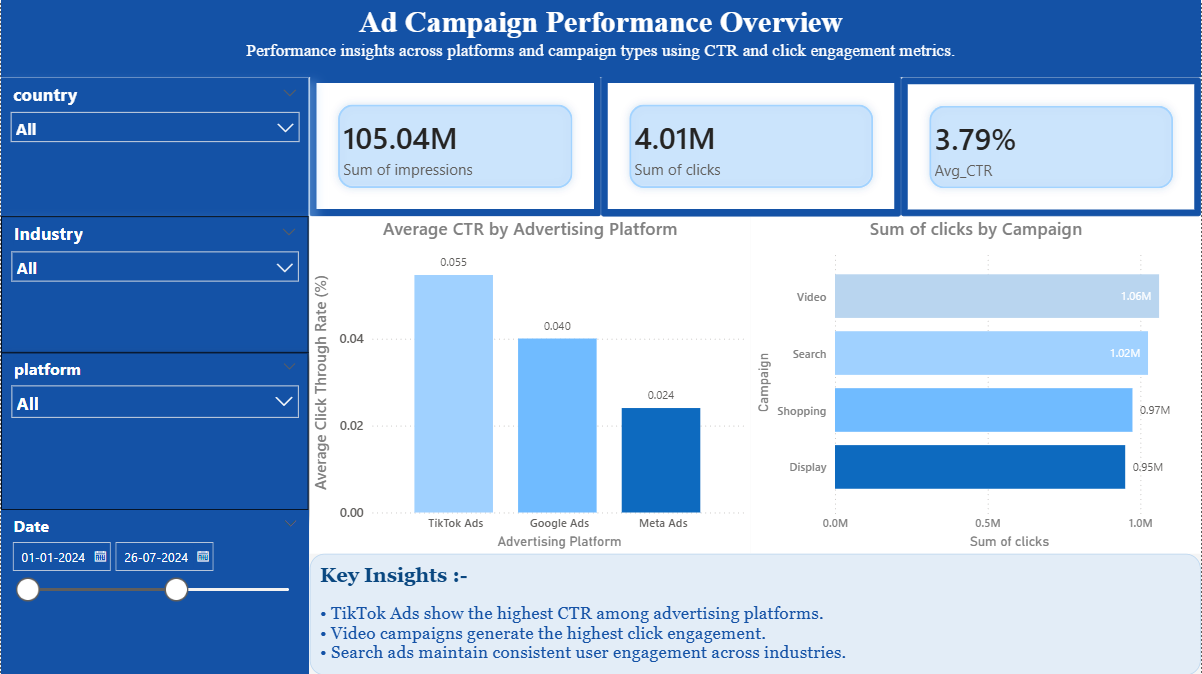

The dashboard page shown, as its layout file describes it:
{"tool":"powerbi","page":{"name":"Ad Performance","canvas":[1280,720],"ordinal":0},"visuals":[{"type":"textbox","box":[0,0,1280,82.7],"z":0},{"type":"cardVisual","fields":{"Data":["Sum(global_ads_performance_dataset.impressions)"]},"box":[329.3,81.3,310.7,149.3],"z":1000},{"type":"slicer","fields":{"Values":["global_ads_performance_dataset.country"]},"box":[0,82.7,328,148],"z":2000},{"type":"slicer","fields":{"Values":["global_ads_performance_dataset.industry"]},"box":[0,230.7,328,145.3],"z":3000},{"type":"slicer","fields":{"Values":["global_ads_performance_dataset.platform"]},"box":[0,376,328,168],"z":4000},{"type":"clusteredColumnChart","title":"Average CTR by Advertising Platform","fields":{"Category":["global_ads_performance_dataset.platform"],"Y":["Avg(global_ads_performance_dataset.CTR)"]},"box":[329.3,230.7,470.7,360],"z":5000},{"type":"barChart","fields":{"Category":["global_ads_performance_dataset.campaign_type"],"Y":["Sum(global_ads_performance_dataset.clicks)"]},"box":[800,230.7,480,360],"z":6000},{"type":"slicer","fields":{"Values":["global_ads_performance_dataset.date"]},"box":[0,544,328,176],"z":7000},{"type":"cardVisual","fields":{"Data":["Sum(global_ads_performance_dataset.clicks)"]},"box":[640,81.3,320,149.3],"z":8000},{"type":"cardVisual","fields":{"Data":["global_ads_performance_dataset.Avg_CTR"]},"box":[960,82.7,320,148],"z":9000},{"type":"textbox","box":[329.3,590.7,950.7,129.3],"z":10000}]}

Visuals, with their boxes in screenshot pixels (x1, y1, x2, y2), scaled from the page's 1280x720 canvas onto the 1202x674 screenshot:
textbox: x1=0 y1=0 x2=1201 y2=77
cardVisual - Sum(global_ads_performance_dataset.impressions): x1=309 y1=76 x2=601 y2=216
slicer - global_ads_performance_dataset.country: x1=0 y1=77 x2=308 y2=216
slicer - global_ads_performance_dataset.industry: x1=0 y1=216 x2=308 y2=352
slicer - global_ads_performance_dataset.platform: x1=0 y1=352 x2=308 y2=509
"Average CTR by Advertising Platform" clusteredColumnChart: x1=309 y1=216 x2=751 y2=553
barChart - global_ads_performance_dataset.campaign_type x Sum(global_ads_performance_dataset.clicks): x1=751 y1=216 x2=1201 y2=553
slicer - global_ads_performance_dataset.date: x1=0 y1=509 x2=308 y2=673
cardVisual - Sum(global_ads_performance_dataset.clicks): x1=601 y1=76 x2=902 y2=216
cardVisual - global_ads_performance_dataset.Avg_CTR: x1=902 y1=77 x2=1201 y2=216
textbox: x1=309 y1=553 x2=1201 y2=673
